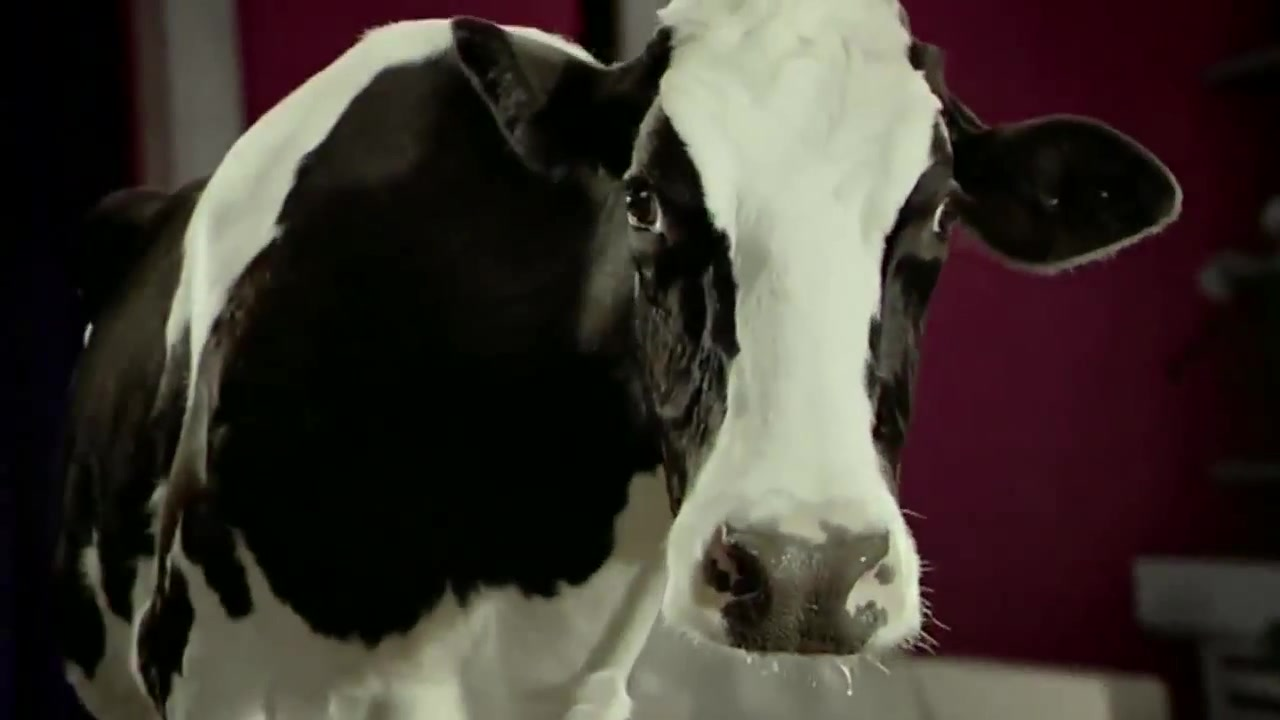cow: (1, 2, 1187, 716)
